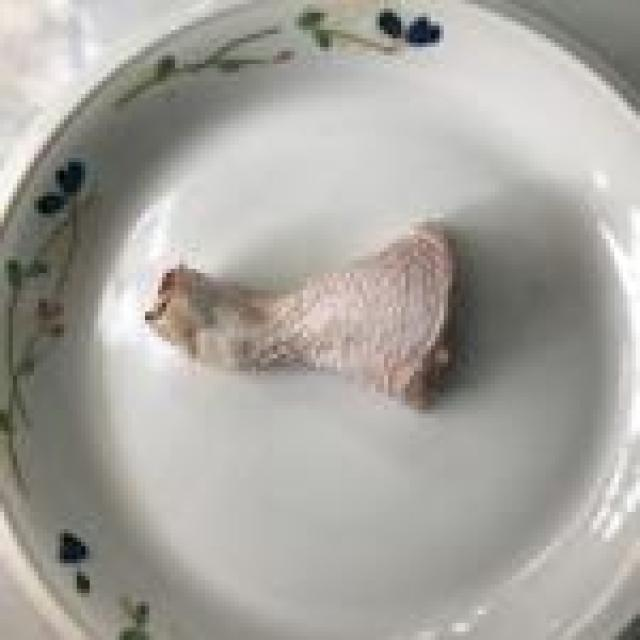leg: (130, 225, 487, 438)
